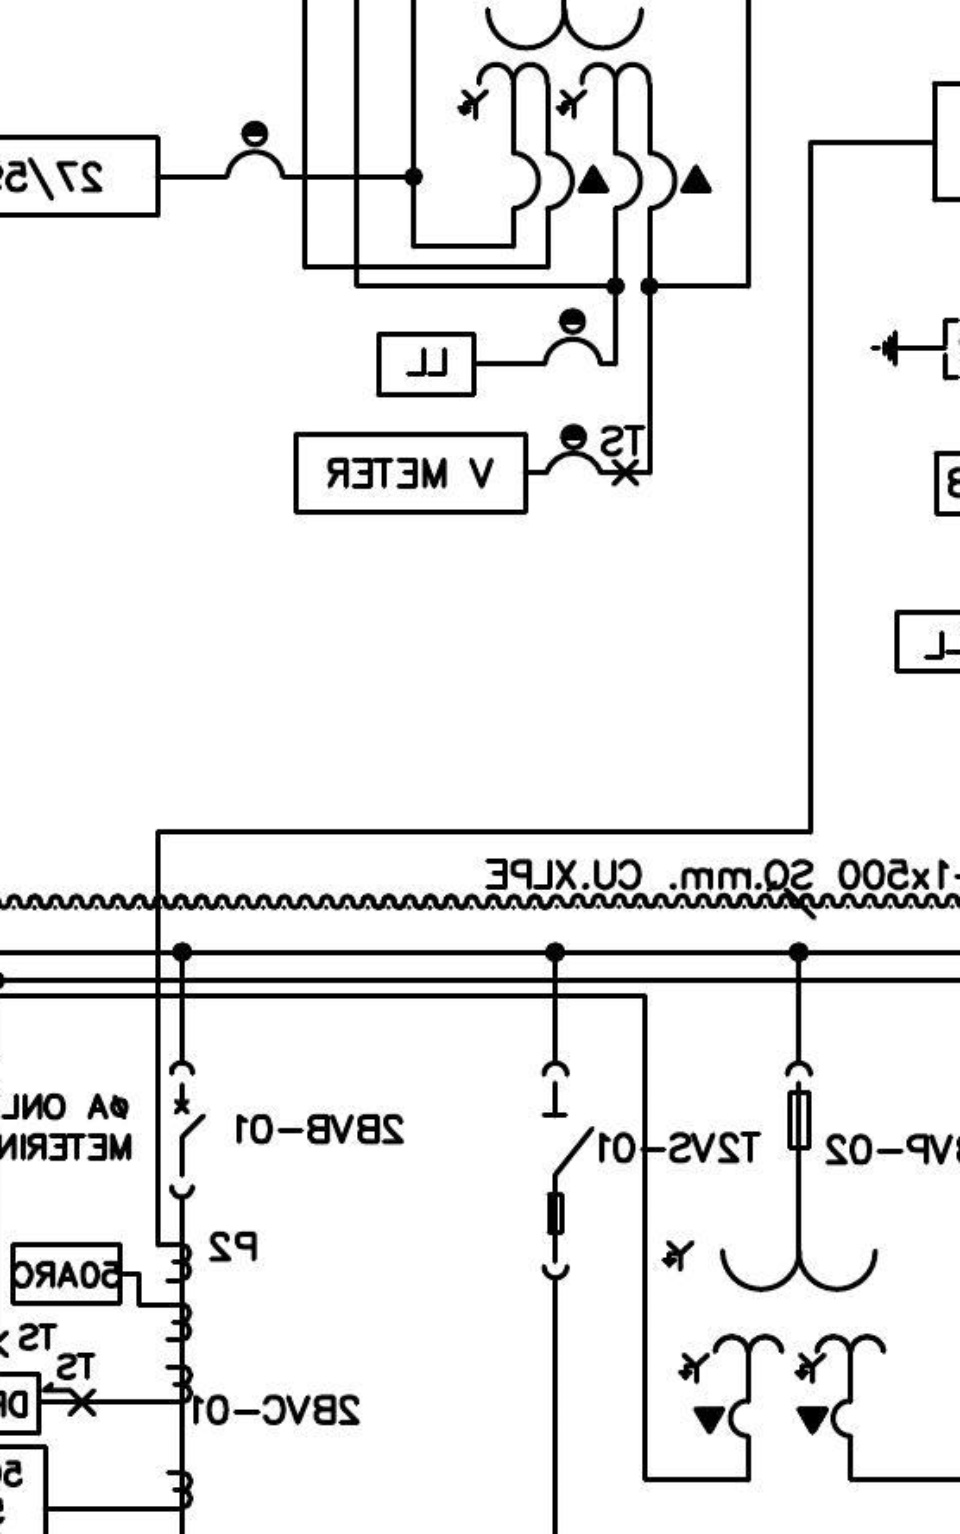22_breaker: (168, 1060, 208, 1200)
22_ds: (540, 1060, 595, 1281)
22_vt_3p: (660, 1061, 889, 1441)
LL: (375, 330, 478, 400)
v_m_digital: (292, 430, 531, 516)
